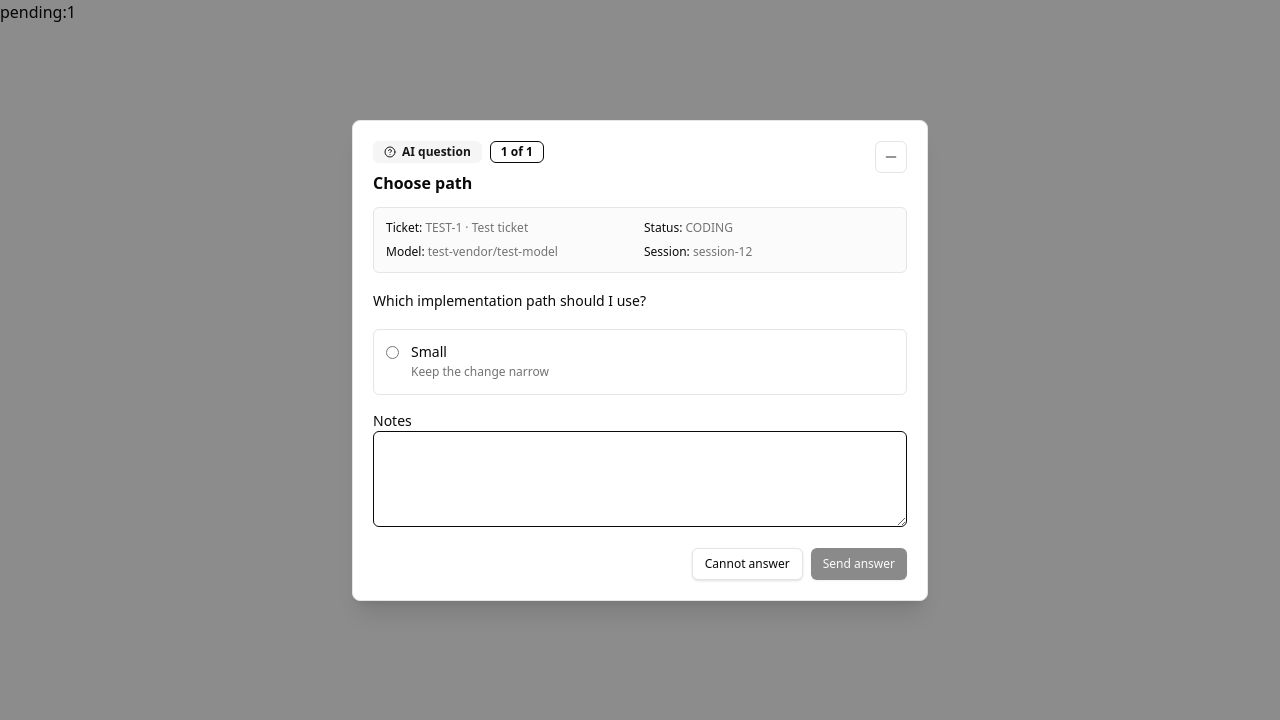
Test: AIQuestionProvider › recovers pending questions and shows a minimizable popup
Check: the heading "Choose path" is shown, box [373, 172, 472, 194]
Check: the text "Ticket: TEST-1 · Test ticket" is shown, box [386, 218, 528, 236]
Click the button named "minimize ai question" at point(891, 156), box [875, 140, 907, 172]
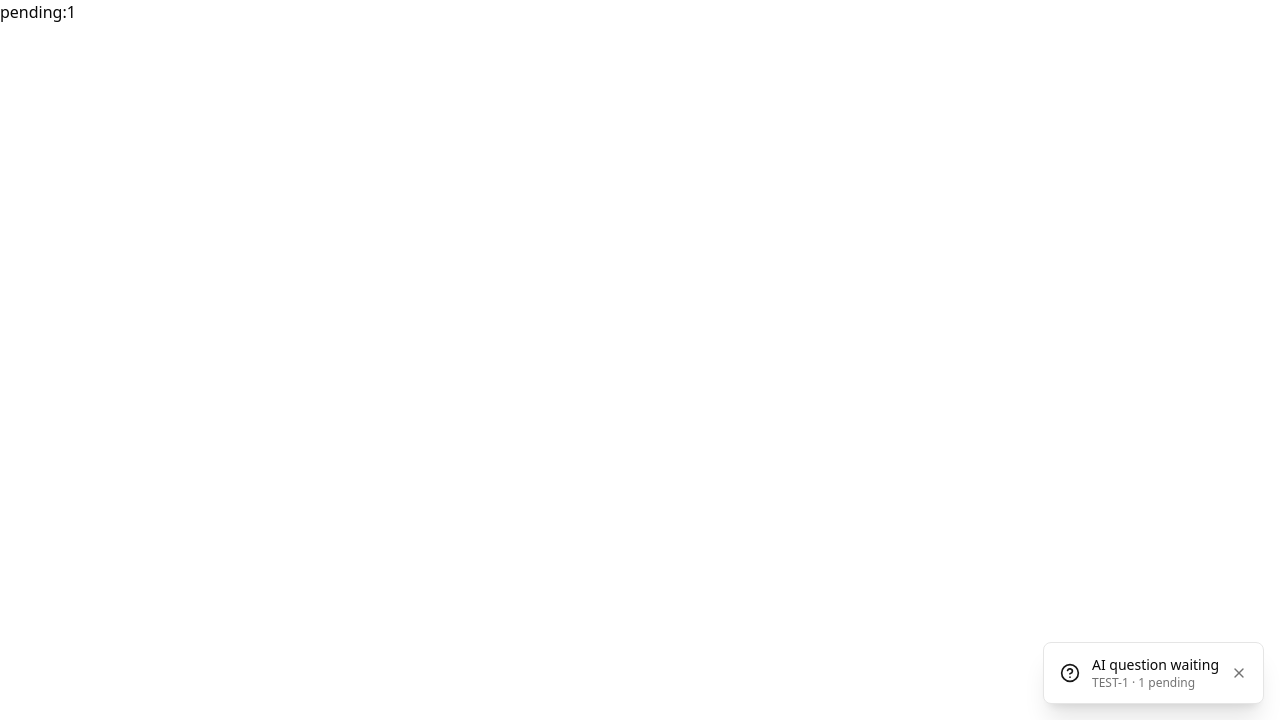
Check: the text "AI question waiting" is shown, box [1092, 655, 1219, 675]
Check: the text "TEST-1 · 1 pending" is shown, box [1092, 674, 1195, 691]
